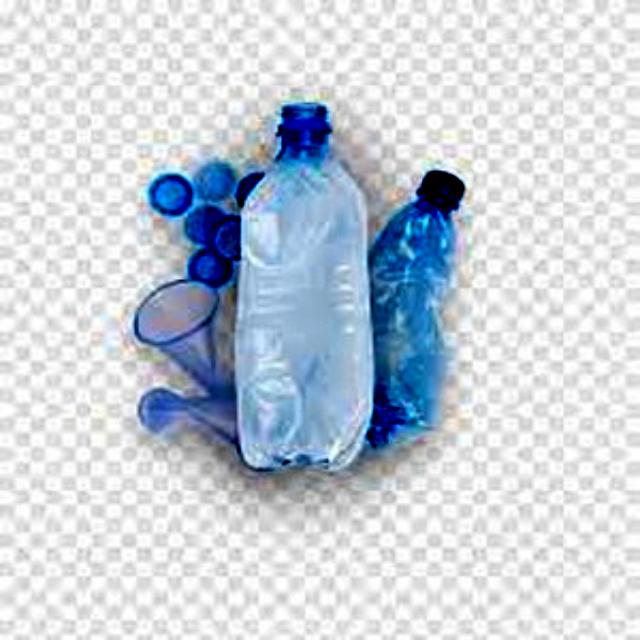Plastic: (240, 102, 372, 472), (369, 172, 469, 448)
